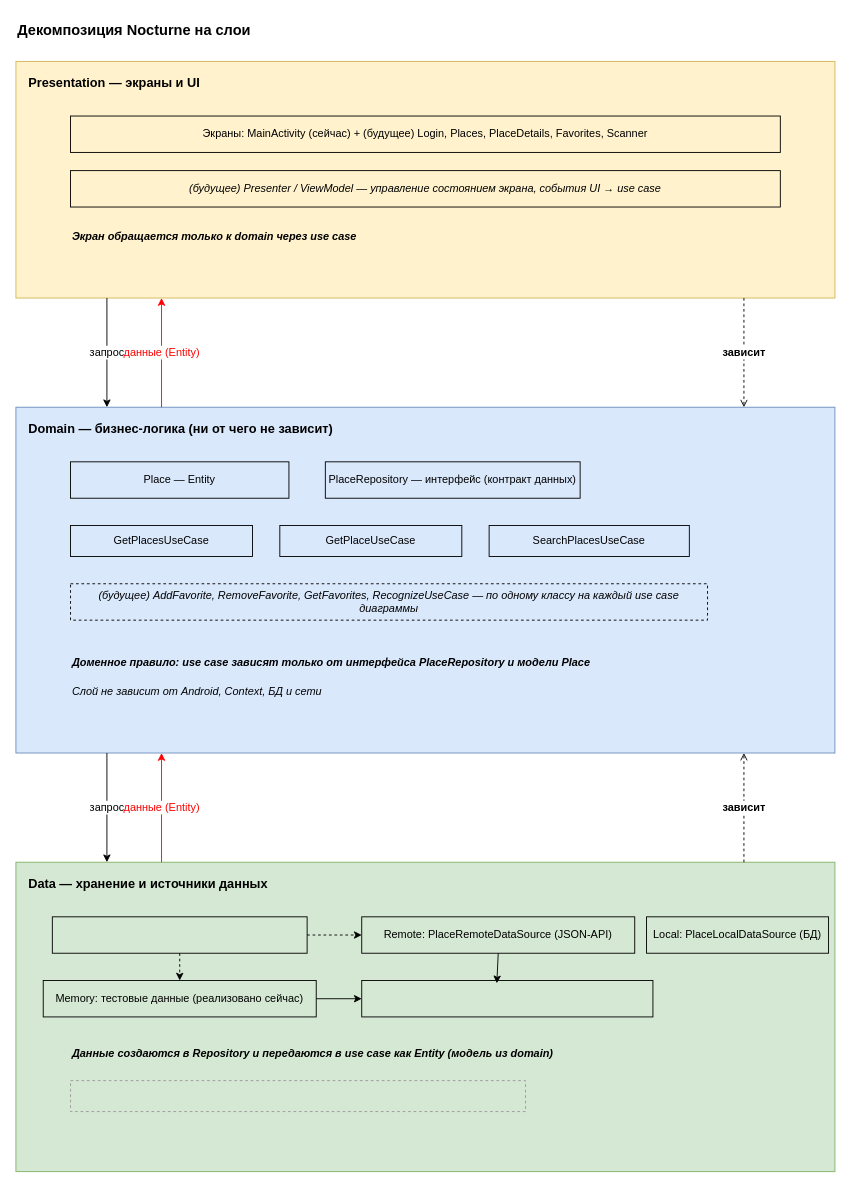
This 851x1188 diagram has some shape labels left out. The centre of each missing label's shape, as x and y in pixels:
"PlaceDto + Mapper (DTO → Entity)" belongs at [507,998].
"PlaceRepositoryImpl — реализация интерфейса" belongs at [179,934].
"Repository Pattern: выбор источника (Remote / Local / Memory)" belongs at [298,1096].
